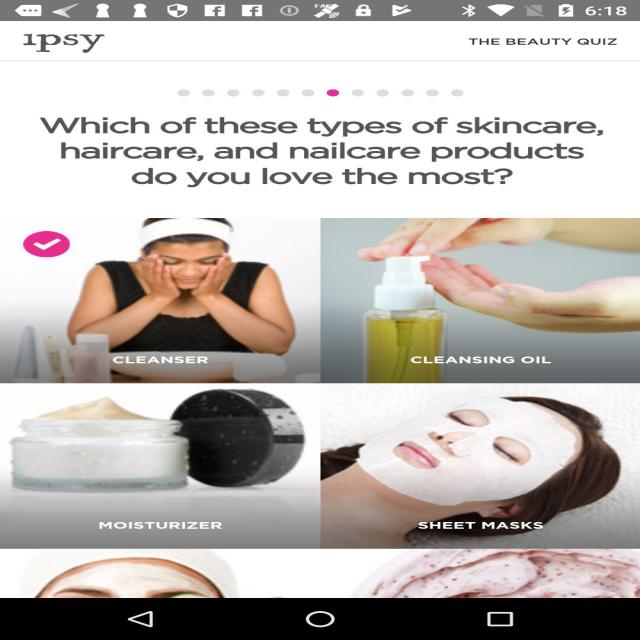image: (3, 222, 306, 378), (324, 224, 628, 378), (10, 388, 306, 541), (329, 395, 621, 529), (8, 552, 630, 600)
text: (21, 94, 610, 205), (7, 12, 138, 71), (459, 24, 640, 64)
